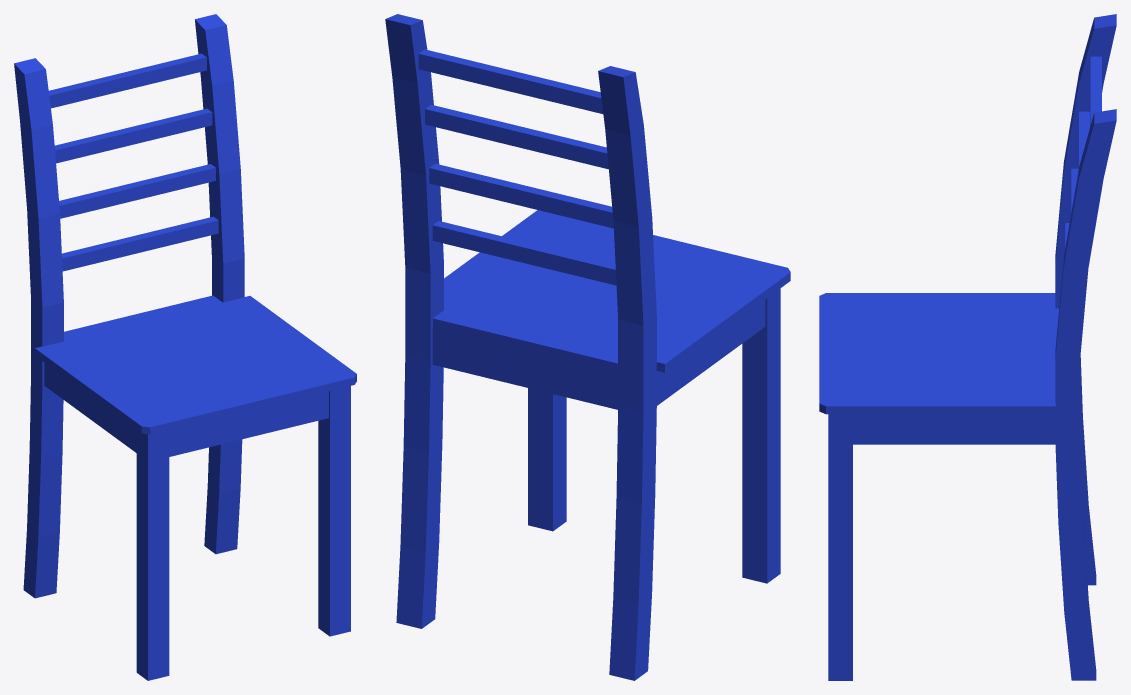
File: Kautsbi.fbx
The picture shows the model from 3 angles, left to right: view 1: azimuth 30°, elevation 25°; view 2: azimuth 150°, elevation 25°; view 3: azimuth 270°, elevation 25°; orthographic projection. The views are drawn at different scales.
Visible parts, largest first — view 1: Low; view 2: Low; view 3: Low.
Boxes of the visible parts, <box> form: Low: <box>14,14,356,680</box>; Low: <box>385,14,790,680</box>; Low: <box>819,14,1116,680</box>.
Size of the model in its own units: 105 by 242 by 117.
